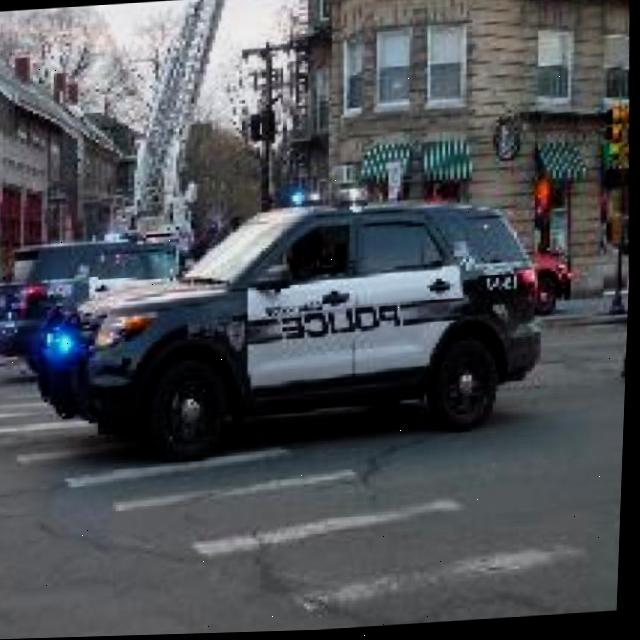emergency: (26, 185, 560, 472), (0, 224, 286, 380)
